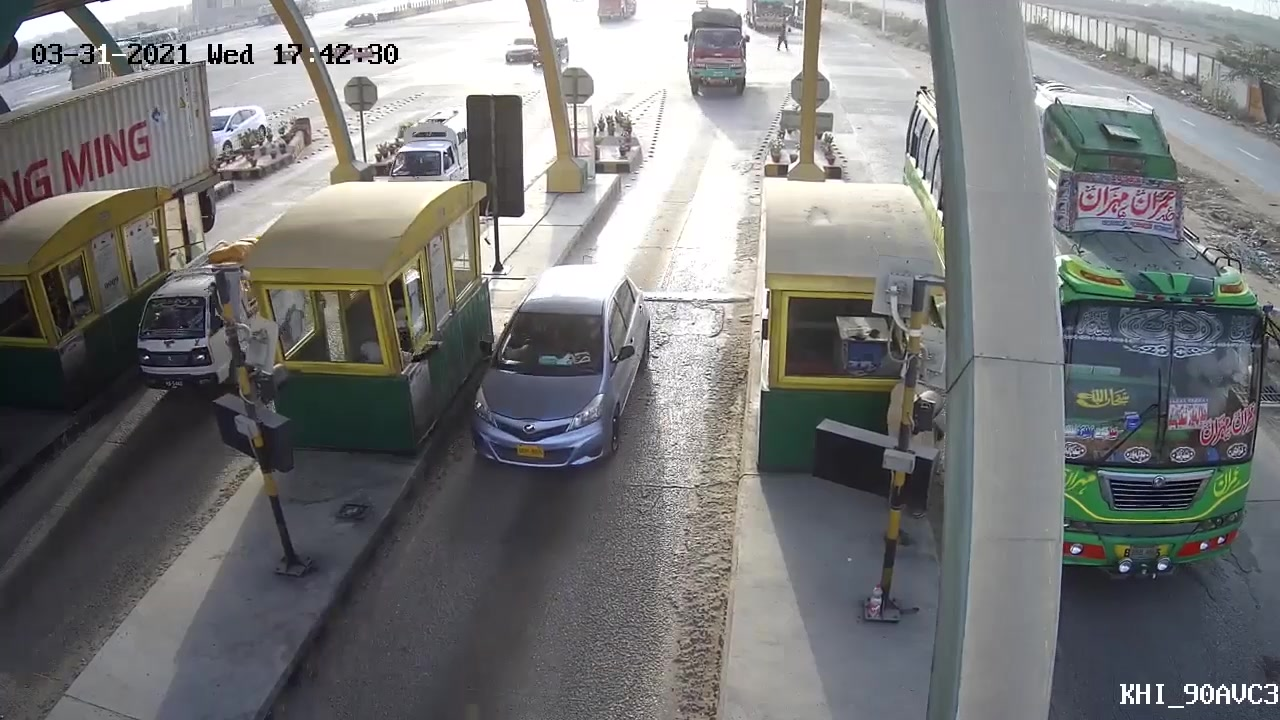F1: (468, 248, 655, 489)
